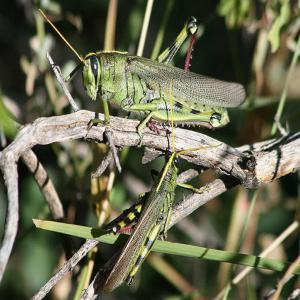locust: (62, 7, 244, 141)
